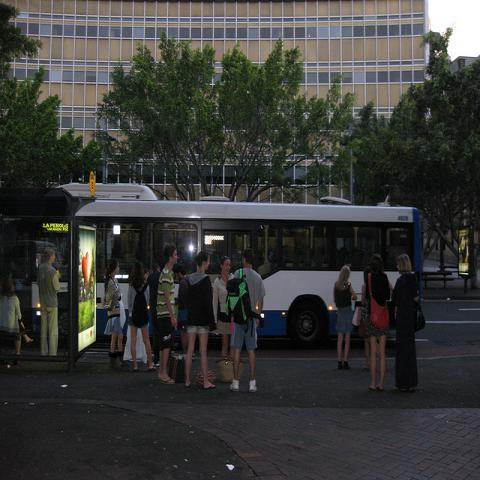bus: (28, 168, 422, 348)
